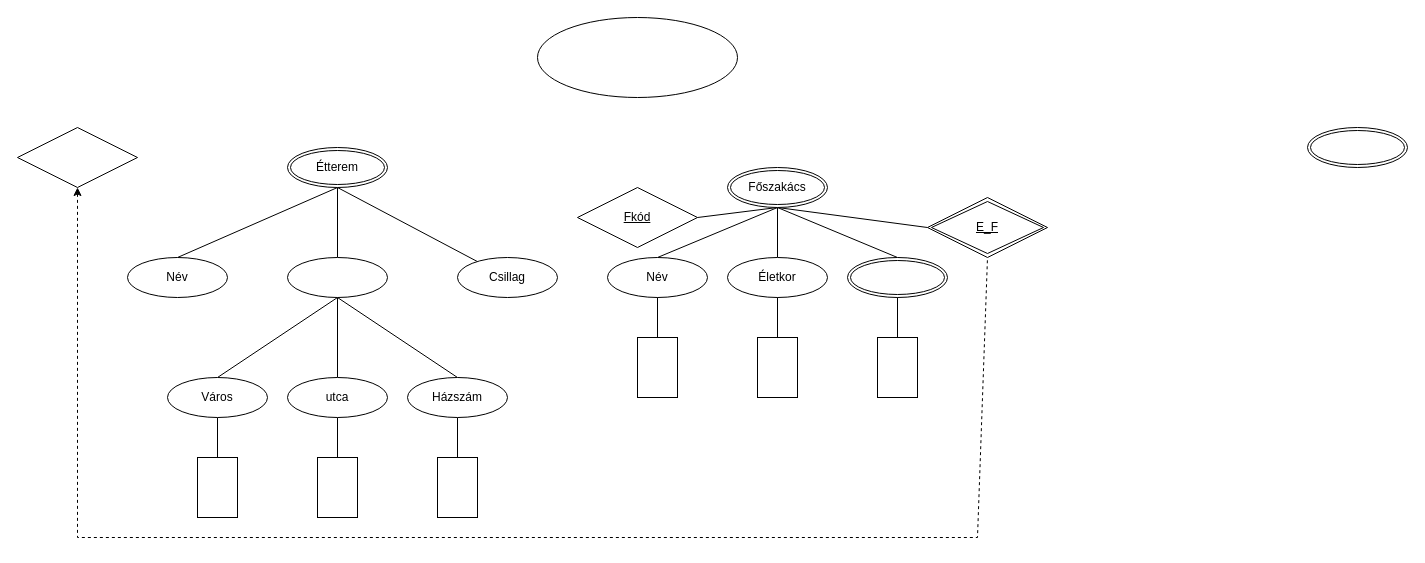
This 1425x563 diagram has some shape labels left out. The shapes that lost their labels are listed below. From the top down, each one's centre as x and y in pixels, then its label:
At [637,57]: "FO6S0Z_vendéglátás".
At [77,157]: "Ekód".
At [1357,147]: "Attribute".
At [337,277]: "Cím".
At [897,277]: "Végzetség".
